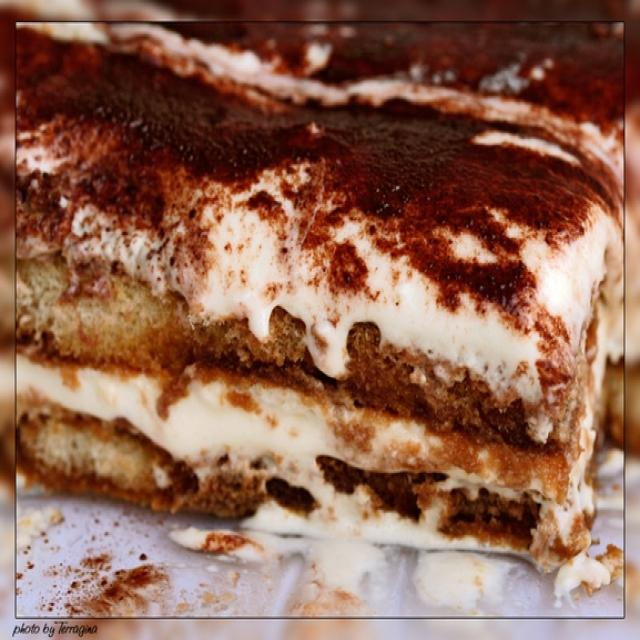蛋糕甜品: (6, 13, 596, 599)
